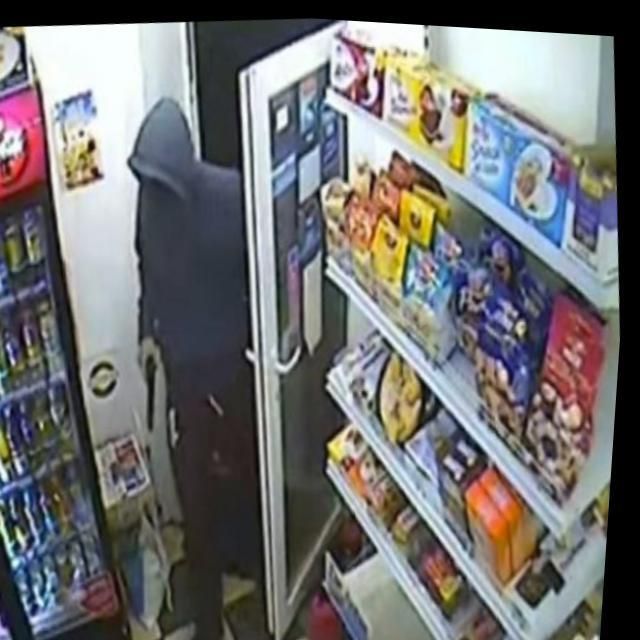weapon: (144, 354, 174, 433)
